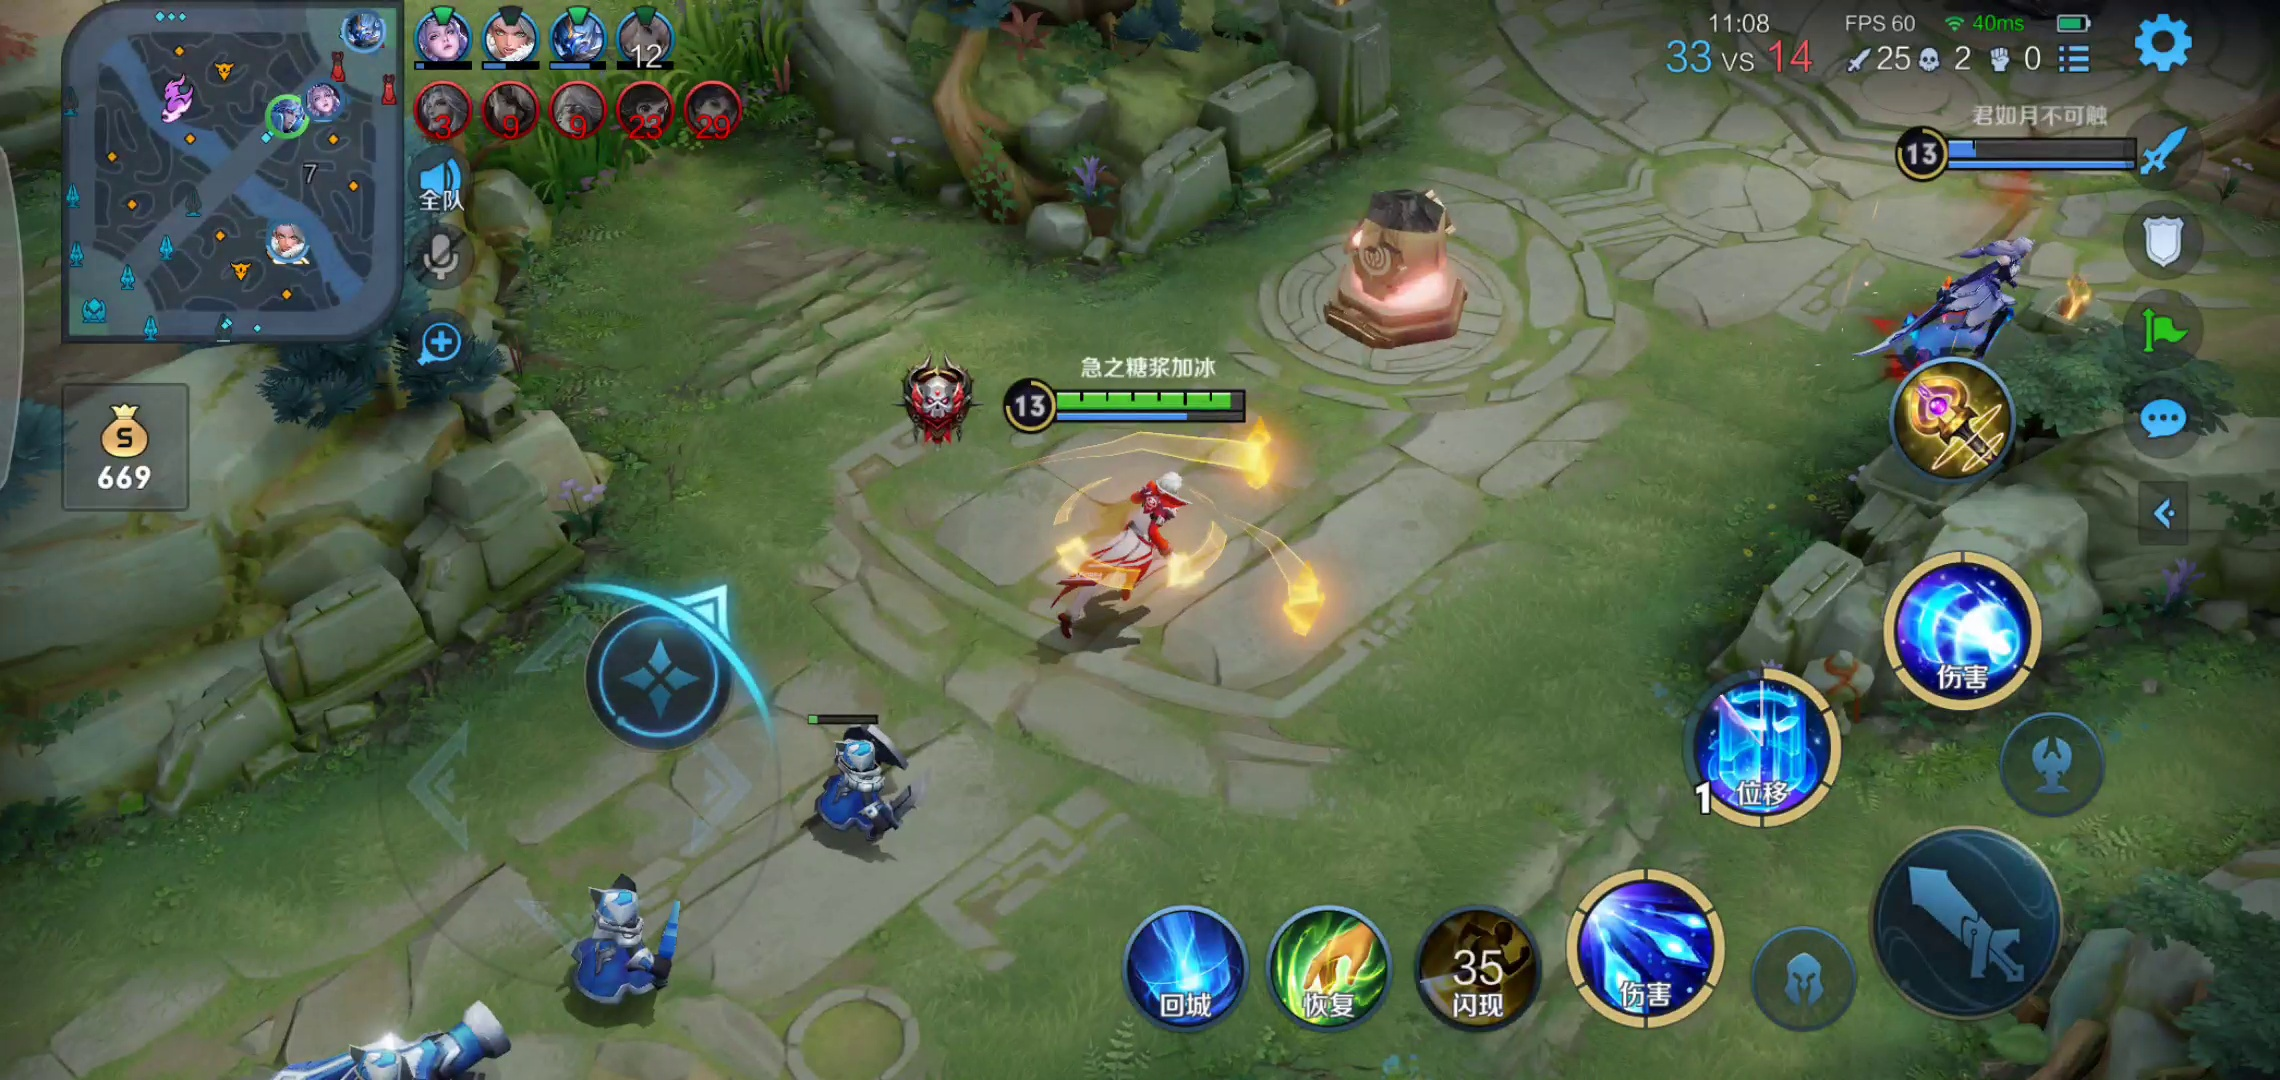grass: (528, 23, 803, 164)
hero: (1035, 452, 1221, 656), (1879, 217, 2044, 391)
soldier: (265, 1012, 557, 1080), (557, 875, 692, 1022), (794, 714, 929, 845)
tower: (1320, 177, 1482, 349)
